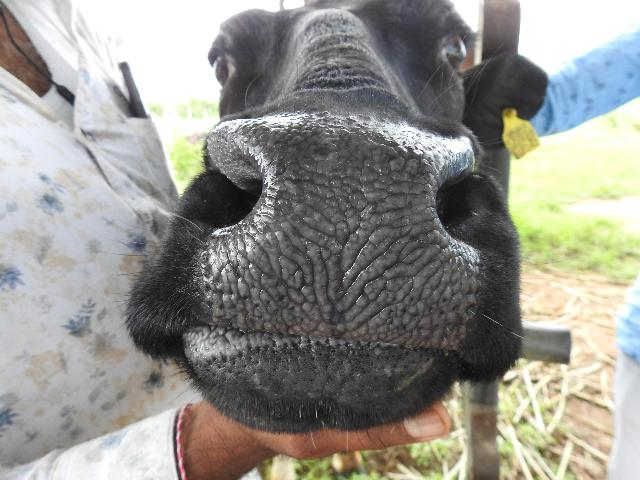Muzzle: (258, 126, 434, 336)
